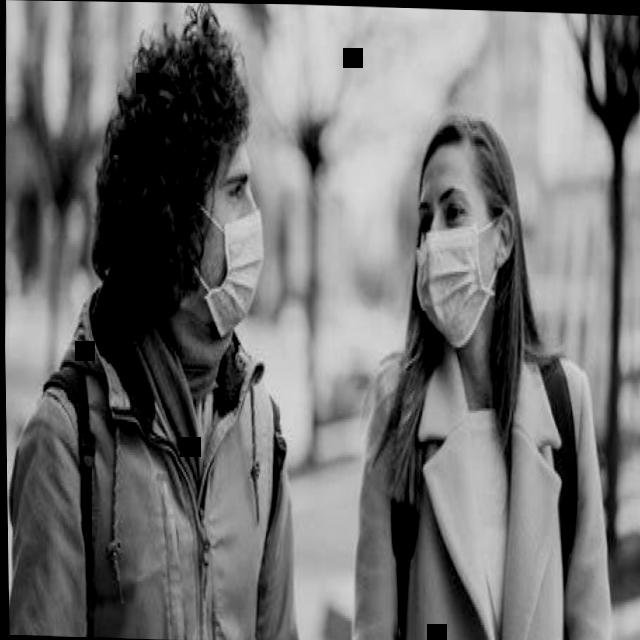Mask: (173, 85, 266, 332), (411, 140, 519, 352)
